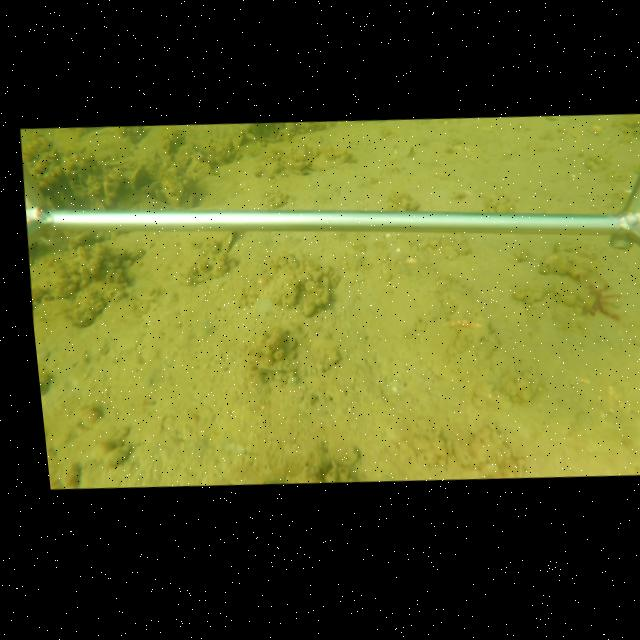Oyster-Indeterminate: (130, 166, 147, 188), (221, 231, 235, 256)
